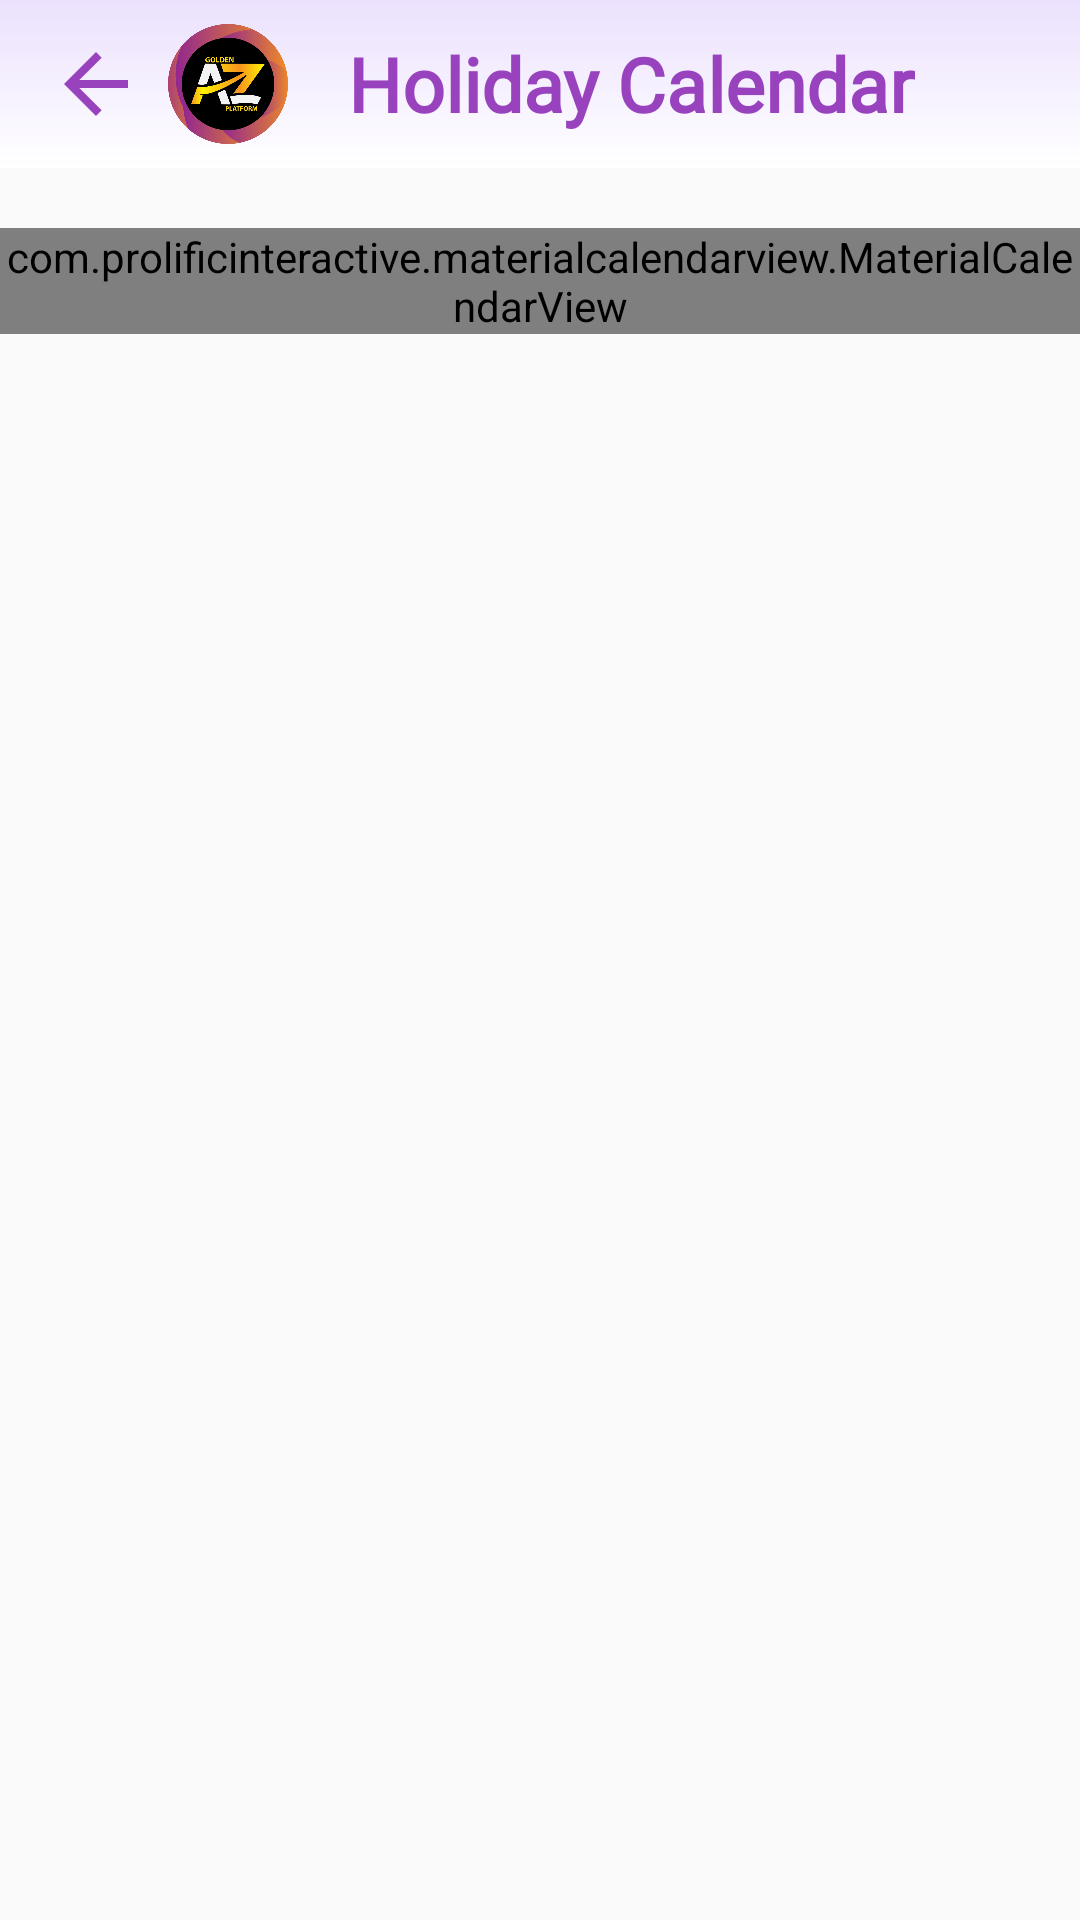

Screen size 1080 × 1920. Icon name, then its box in pixels as (x1, y1, x2, y2):
arrow back: (64, 52, 128, 116)
